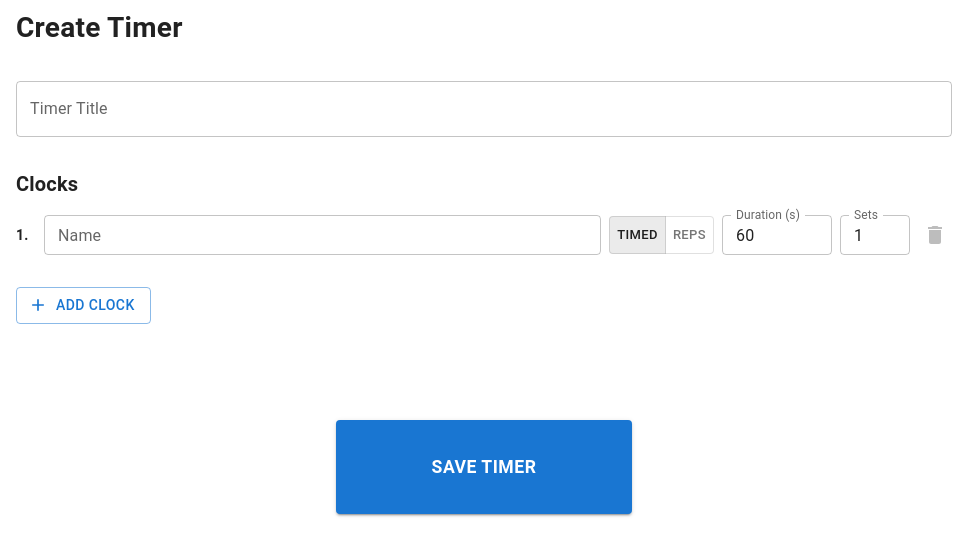
Test: CreateTimer › shows Rest (seconds) input when sets > 1
expect the field labelled "Rest (s)" is not shown: met
Replace the text in the number field labelled "Sets" with "3". click: [875, 235]
box: [840, 215, 910, 255]
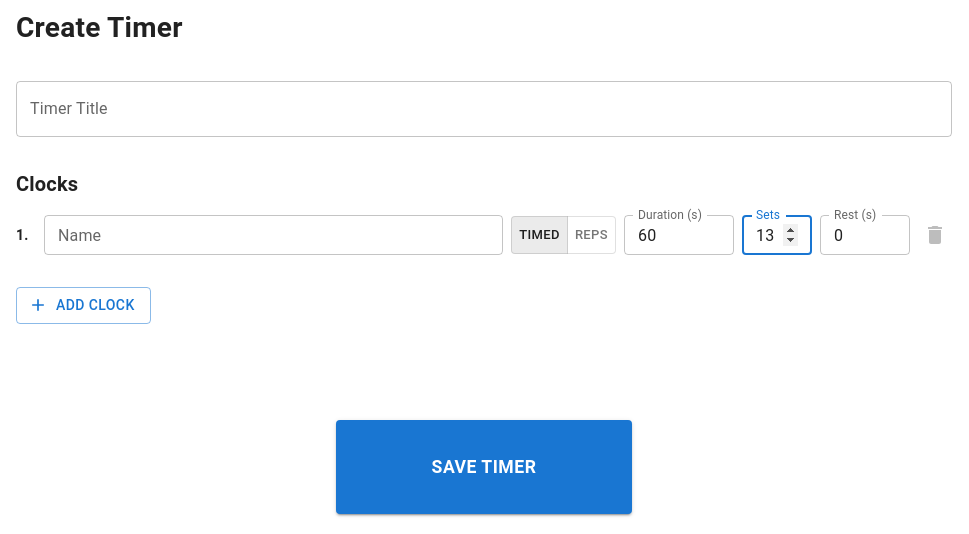
expect the number field labelled "Rest (s)" is shown: met, box [820, 215, 910, 255]
